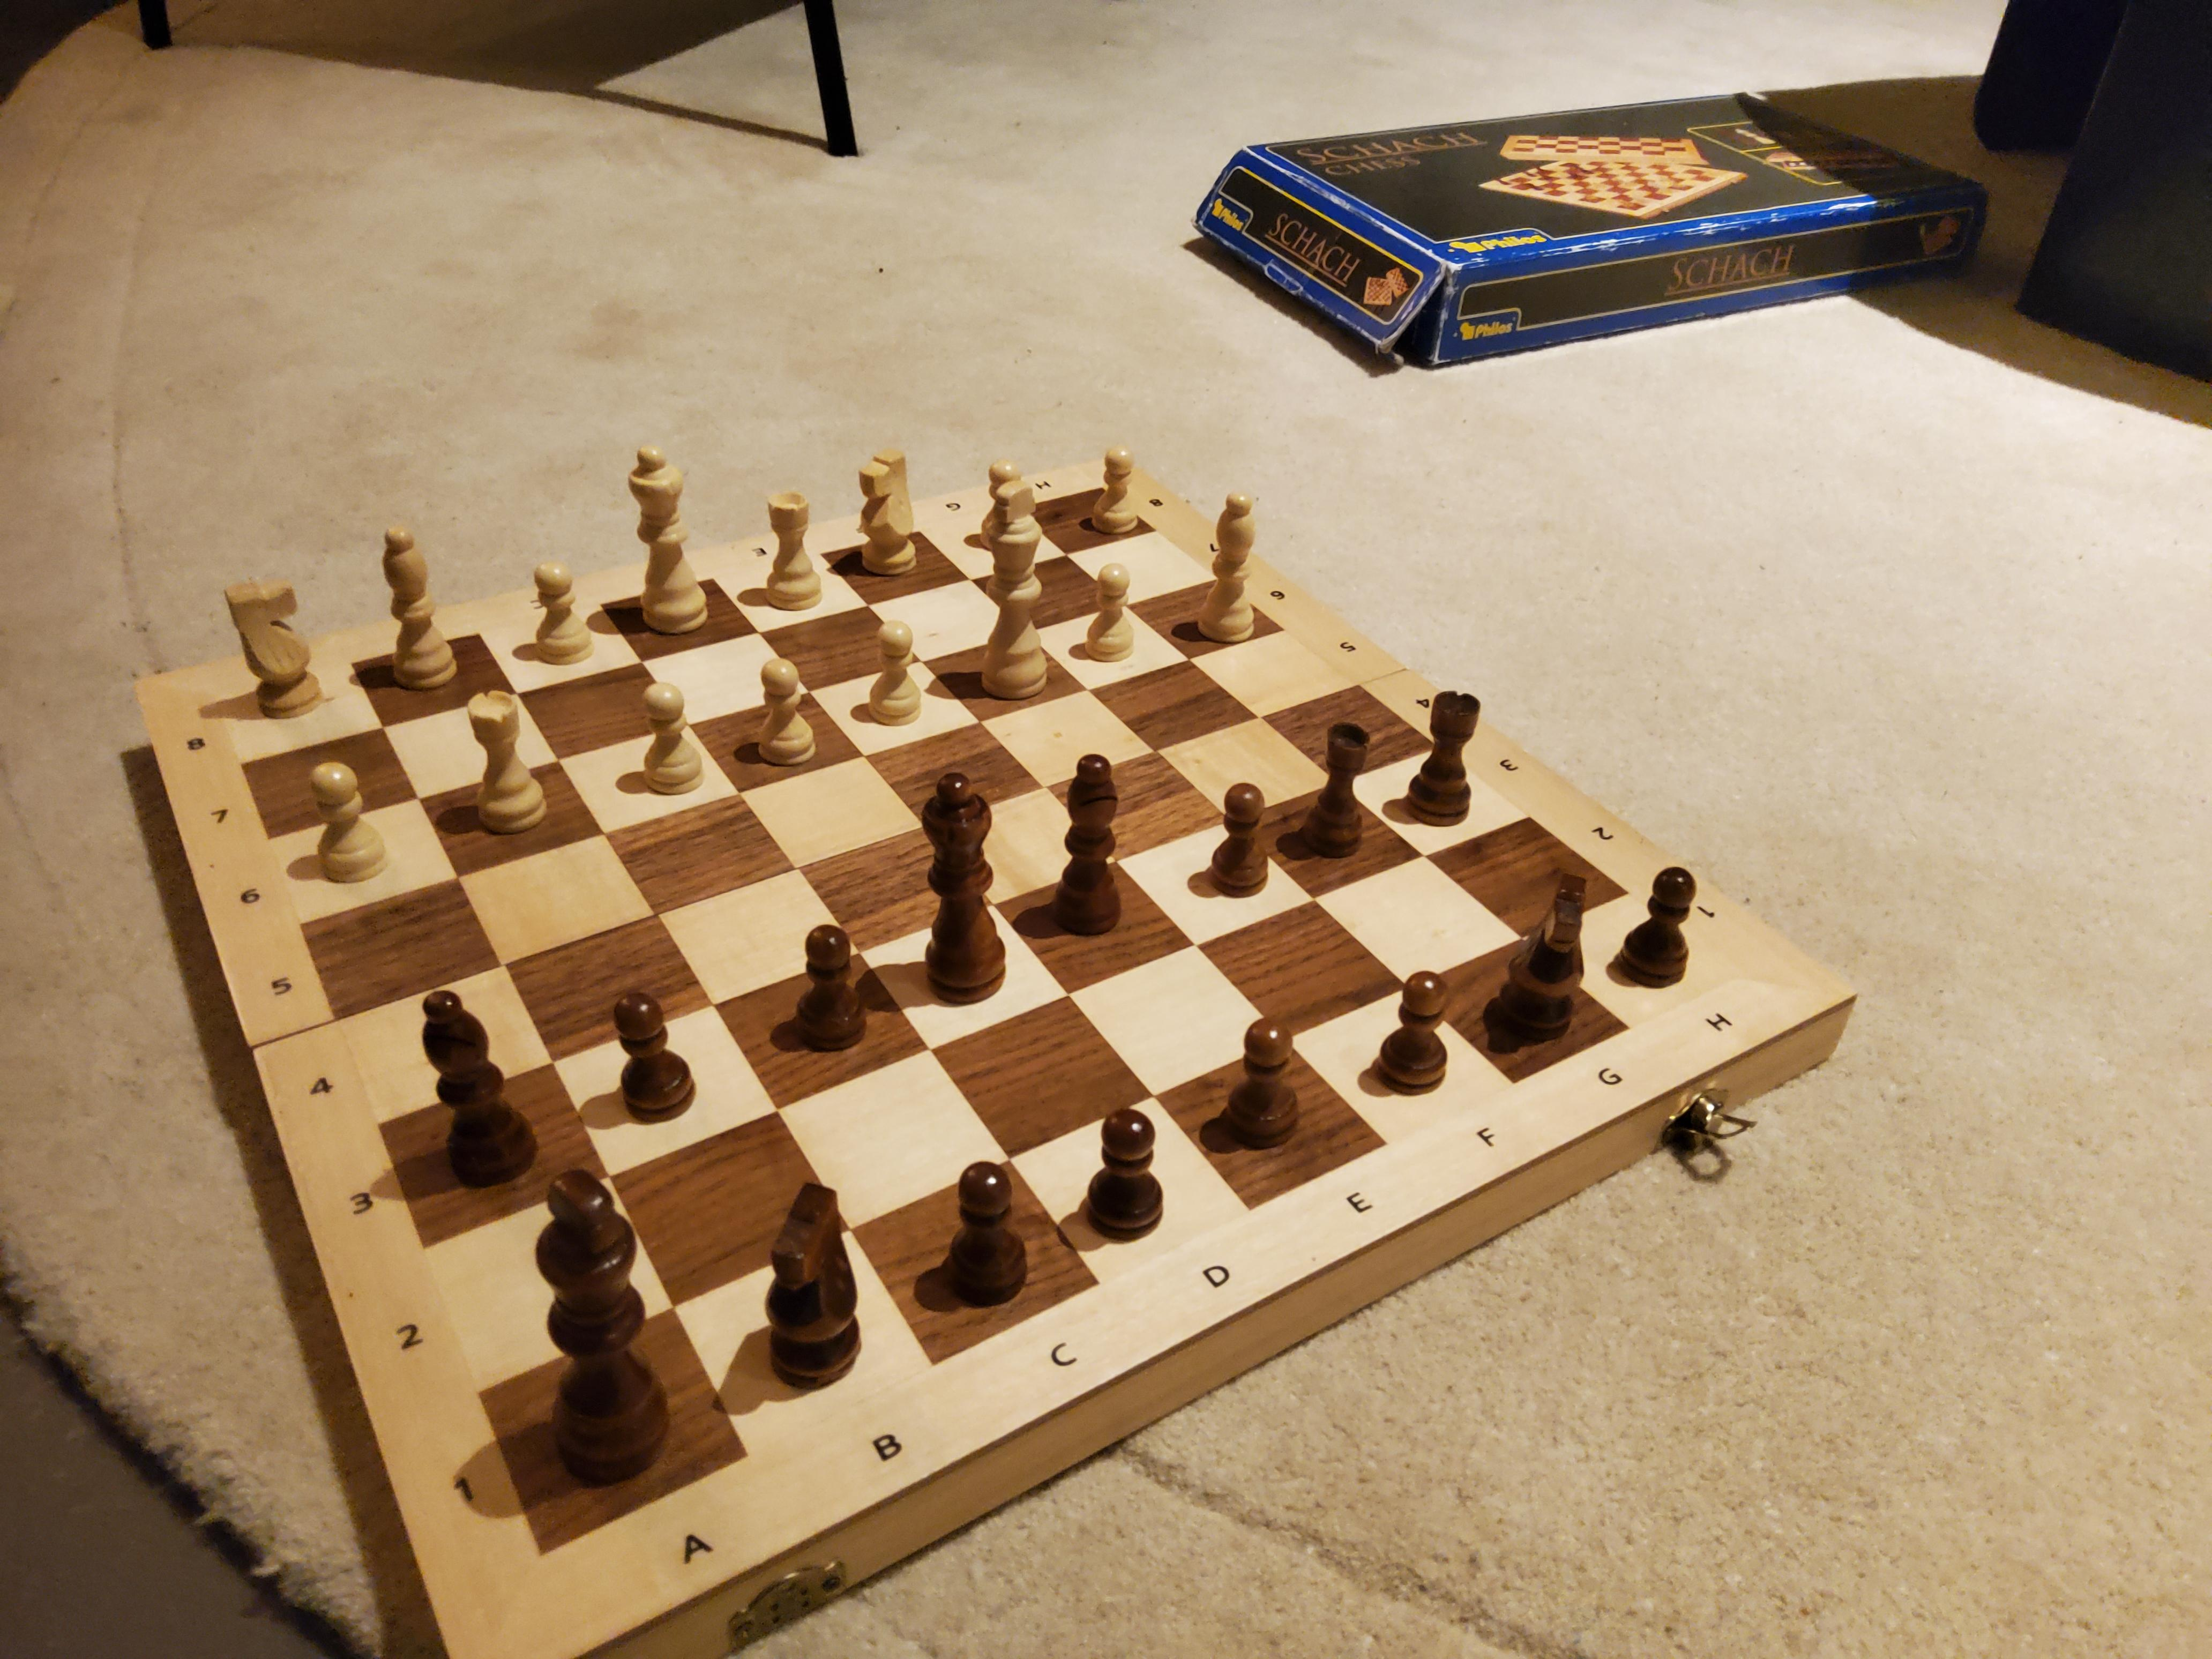schaak: (131, 437, 1876, 1654), (1200, 75, 1996, 375), (502, 1150, 711, 1471), (756, 1162, 900, 1417), (902, 762, 1042, 986), (402, 962, 563, 1157), (1489, 871, 1623, 1058), (1042, 702, 1146, 938), (359, 519, 491, 681), (611, 444, 732, 622), (190, 573, 345, 704), (977, 467, 1059, 692), (930, 1155, 1047, 1312), (462, 683, 582, 833), (603, 981, 711, 1126), (300, 744, 421, 871), (1228, 993, 1324, 1150), (841, 434, 946, 577), (1602, 847, 1707, 988), (1379, 951, 1482, 1086), (1402, 673, 1498, 814), (787, 908, 881, 1046), (1193, 479, 1263, 652), (624, 664, 718, 788), (1085, 1098, 1170, 1230), (1054, 423, 1146, 538), (745, 653, 841, 762), (1195, 769, 1280, 889), (1299, 709, 1372, 849), (1064, 547, 1160, 652), (857, 608, 937, 723), (756, 490, 833, 603), (514, 559, 603, 647)
